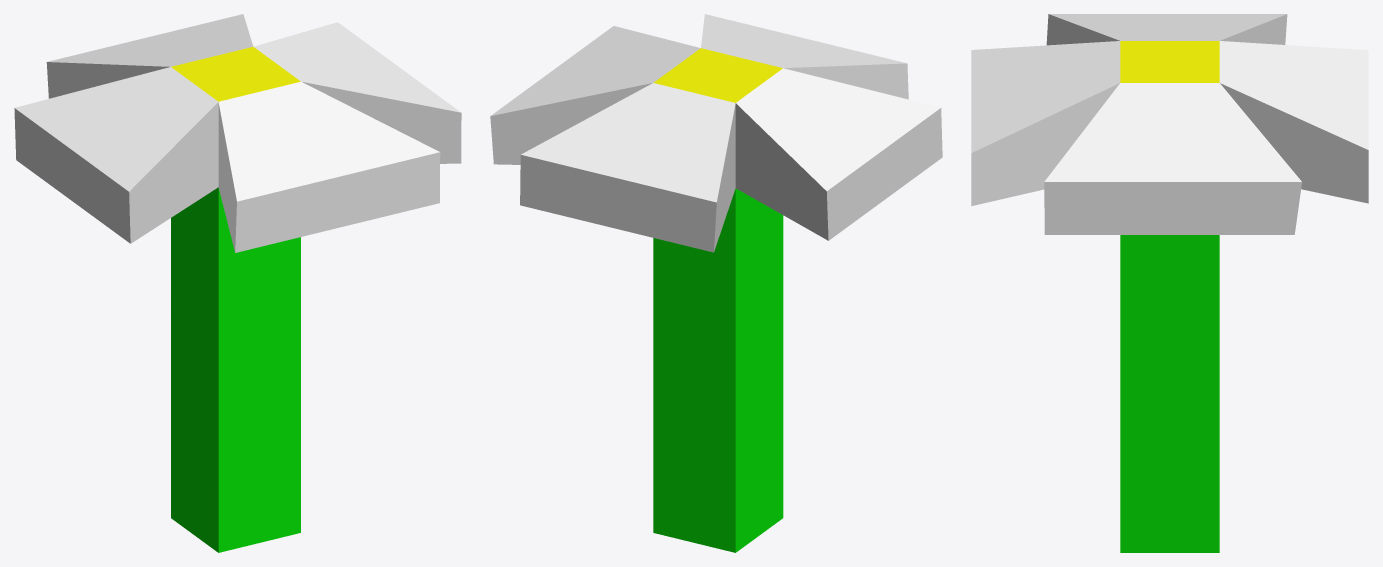
File: flower.glb
3 renders of one model, left to right at view 1: azimuth 30°, elevation 25°; view 2: azimuth 150°, elevation 25°; view 3: azimuth 270°, elevation 25°, orthographic. The views are drawn at different scales.
Parts seen in each view (by area): view 1: Flower; view 2: Flower; view 3: Flower.
Part boxes in pixels (box(x1,y1,x2,y2)): Flower: box(14, 14, 461, 552); Flower: box(490, 14, 942, 552); Flower: box(971, 14, 1368, 552).
Bounding box in the file's own units: 0.8 × 1.04 × 0.8.
Materials: 1 (1 with a texture image).
